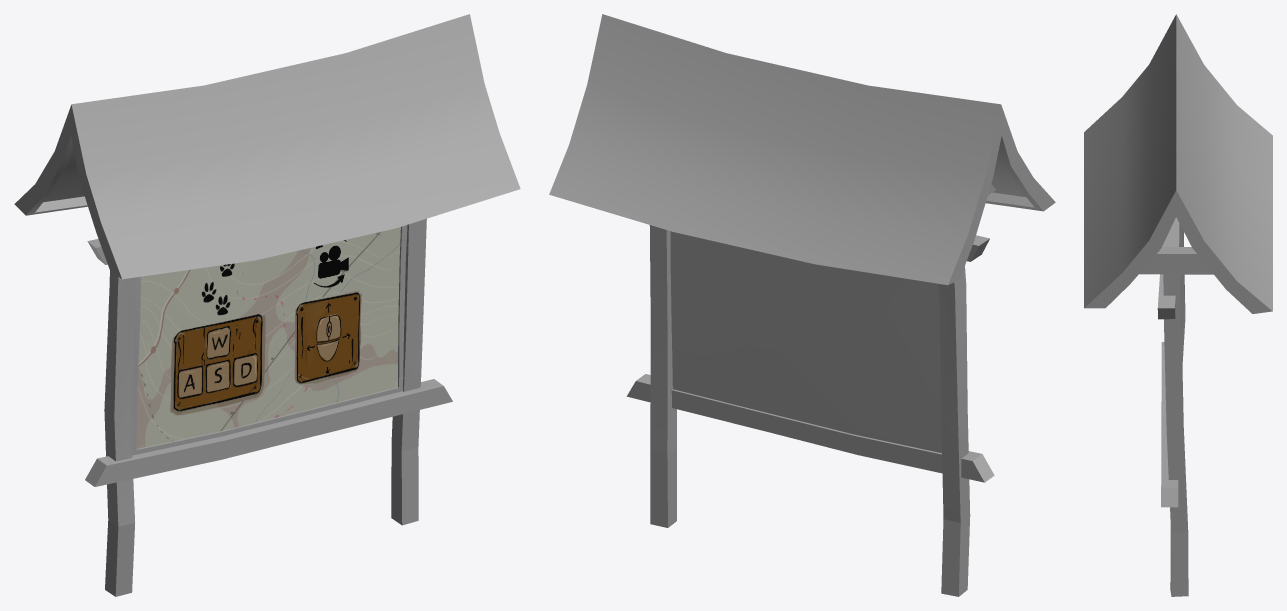
Rendered from Post_big_Ctrls.fbx.
The picture shows the model from 3 angles, left to right: view 1: azimuth 30°, elevation 25°; view 2: azimuth 150°, elevation 25°; view 3: azimuth 270°, elevation 25°; orthographic projection. The views are drawn at different scales.
Parts seen in each view (by area): view 1: Post_Big; view 2: Post_Big; view 3: Post_Big.
Boxes of the visible parts, x1=… form: Post_Big: x1=14, y1=14, x2=520, y2=596; Post_Big: x1=549, y1=14, x2=1055, y2=596; Post_Big: x1=1084, y1=14, x2=1272, y2=596.
Bounding box in the file's own units: 5.46 × 6.5 × 2.55.
Materials: 2 (1 with a texture image).
